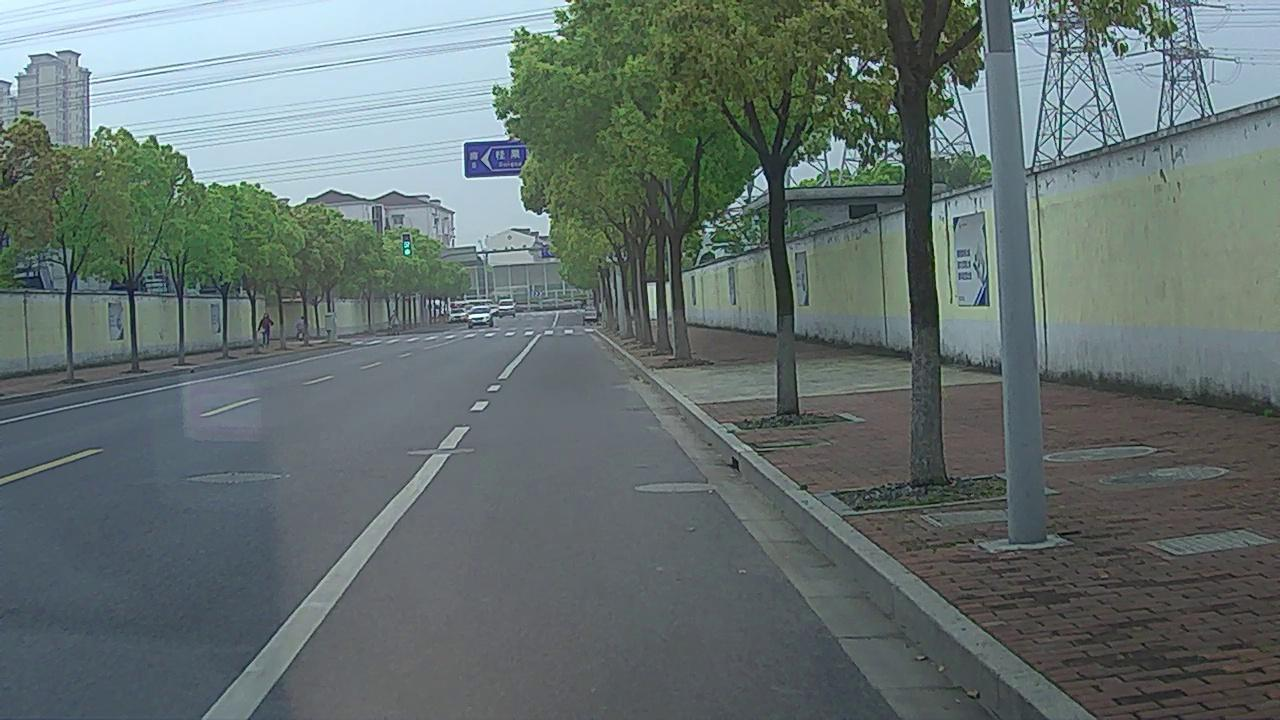traffic_light: (403, 234, 412, 256)
